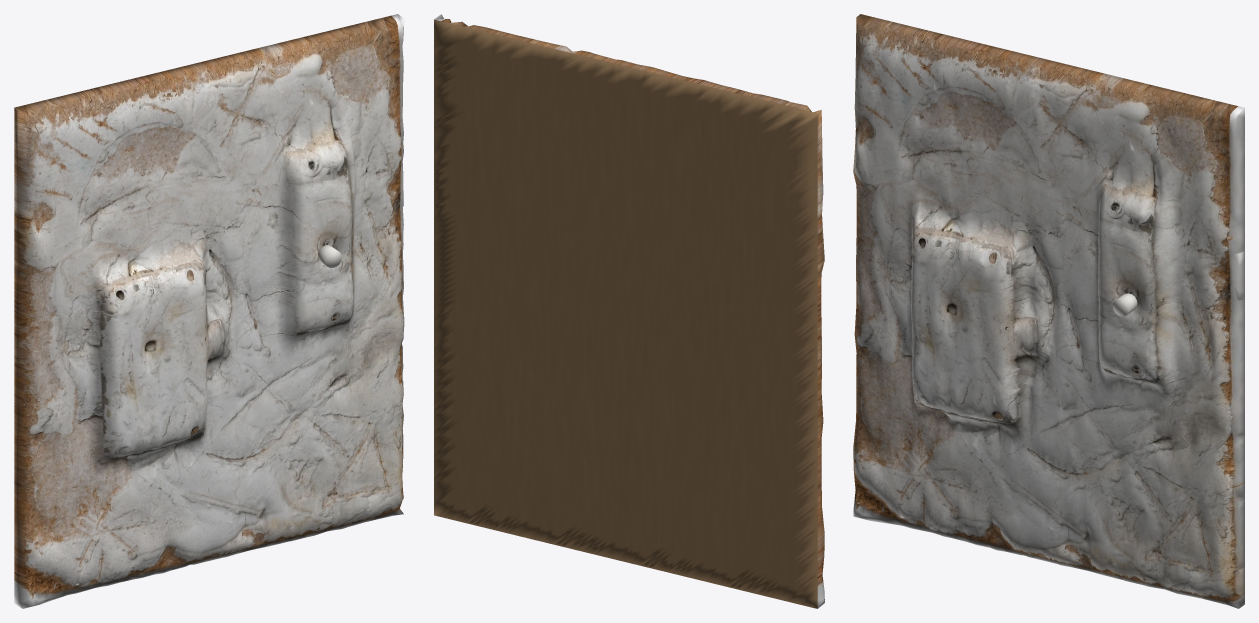
Rendered from escultura-esc-029.glb.
The picture shows the model from 3 angles, left to right: view 1: azimuth 30°, elevation 25°; view 2: azimuth 150°, elevation 25°; view 3: azimuth 330°, elevation 25°; orthographic projection.
Visible parts, largest first — view 1: world; view 2: world; view 3: world.
Boxes of the visible parts, x1,y1,x2,y2 form: world: (14, 14, 405, 608); world: (434, 14, 824, 608); world: (853, 14, 1244, 608).
Size of the model in its own units: 0.4211 by 0.5201 by 0.0566.
Materials: 1 (1 with a texture image).
